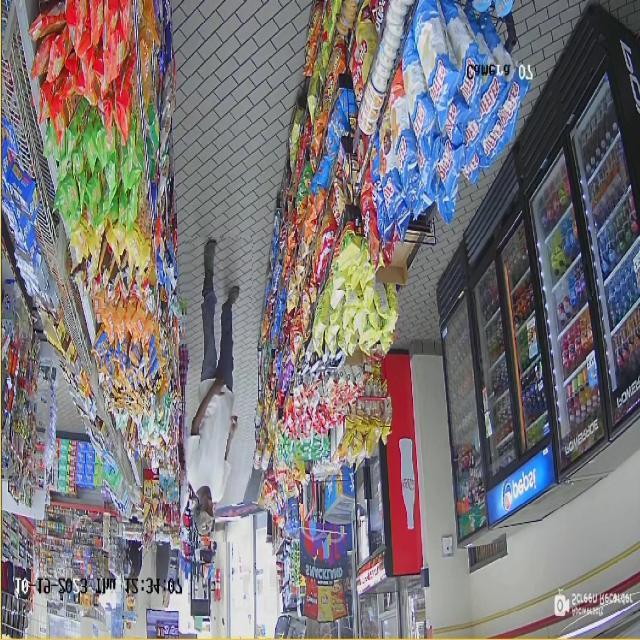Normal: (181, 237, 252, 541)
